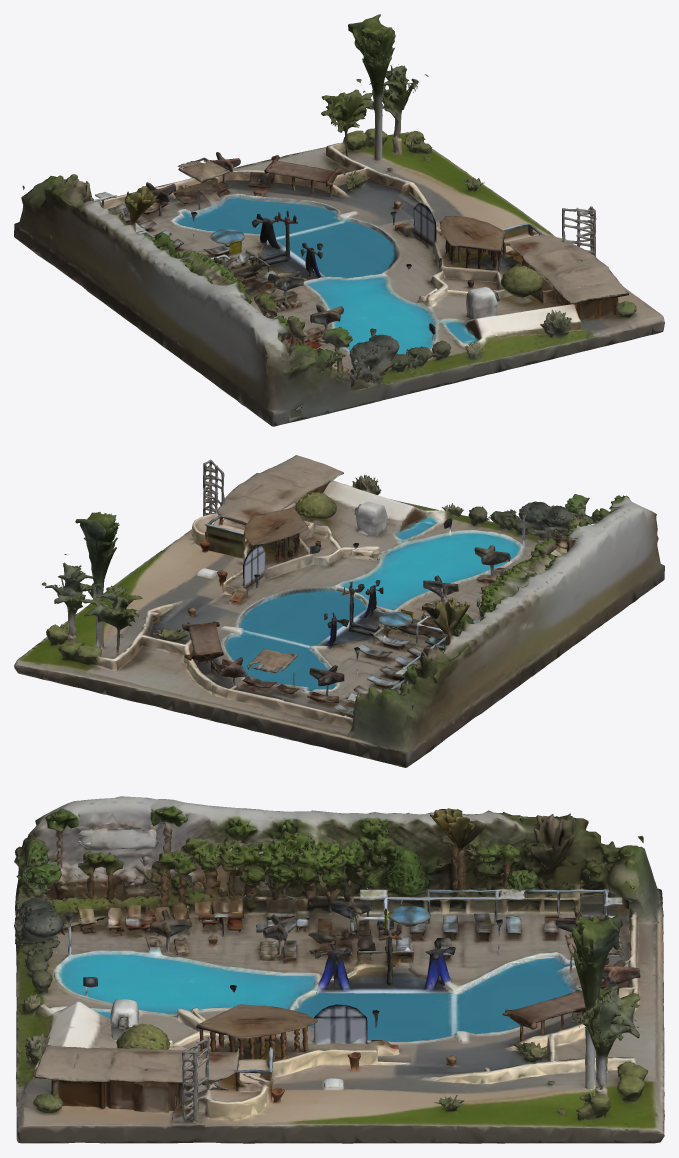
Rendered from coral-beach-village-2.glb.
The picture shows the model from 3 angles, top to bottom: view 1: azimuth 30°, elevation 25°; view 2: azimuth 150°, elevation 25°; view 3: azimuth 270°, elevation 25°; orthographic projection. The views are drawn at different scales.
Bounding box in the file's own units: 0.8715 × 0.3223 × 1.
1 material, 1 textured.
